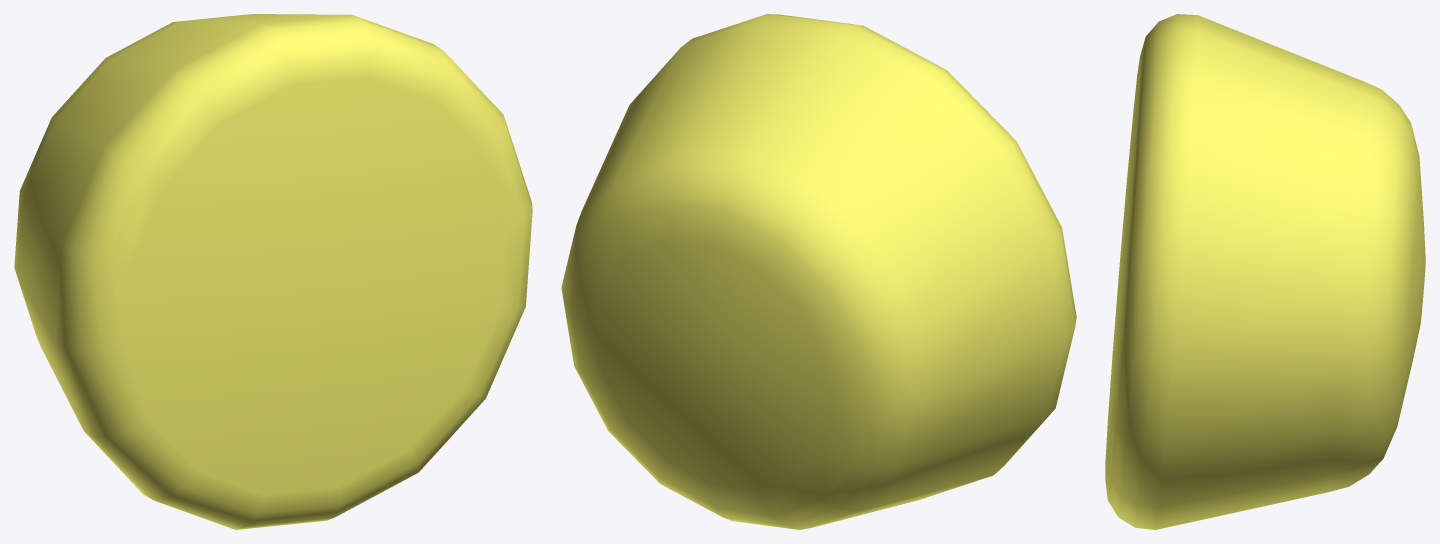
File: sponge.fbx
The picture shows the model from 3 angles, left to right: view 1: azimuth 30°, elevation 25°; view 2: azimuth 150°, elevation 25°; view 3: azimuth 270°, elevation 25°; orthographic projection. The views are drawn at different scales.
Parts seen in each view (by area): view 1: sponge; view 2: sponge; view 3: sponge.
Part boxes in pixels (left/top/right/bottom): sponge: left=14, top=14, right=532, bottom=529; sponge: left=561, top=14, right=1076, bottom=529; sponge: left=1105, top=14, right=1425, bottom=529.
Bounding box in the file's own units: 5.02 × 5.02 × 3.12.
